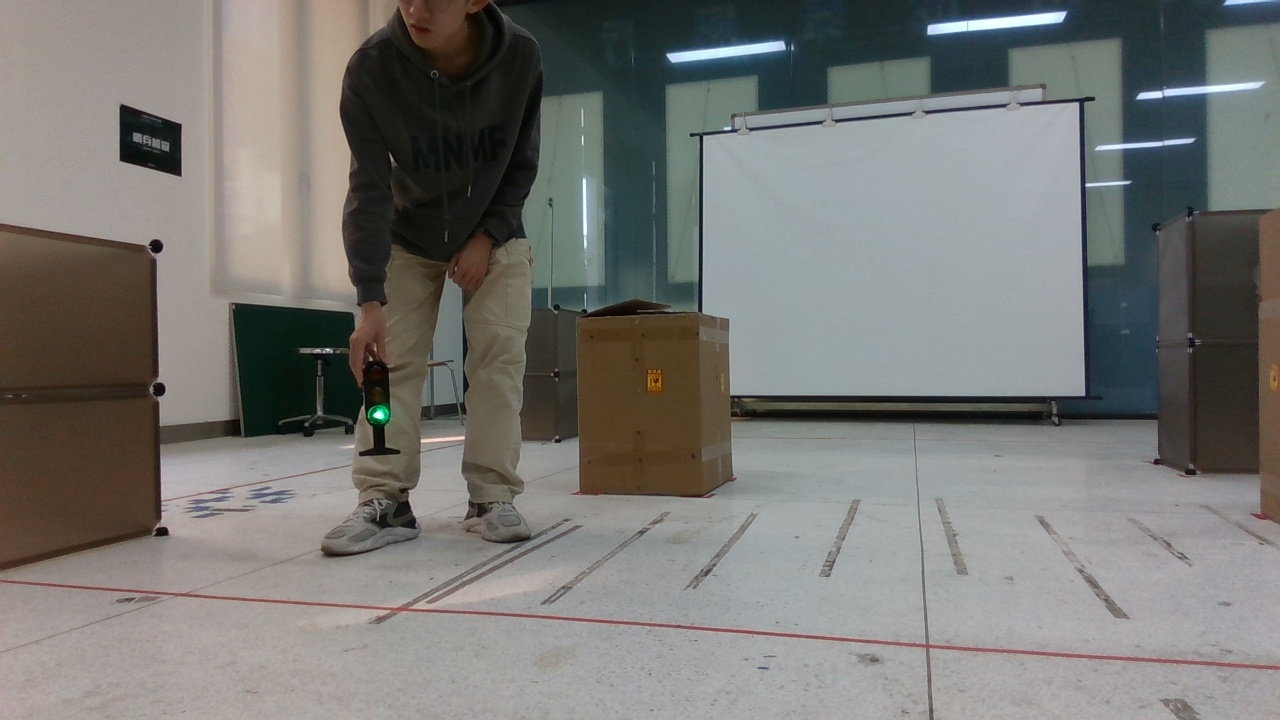green_light: (347, 350, 423, 462)
